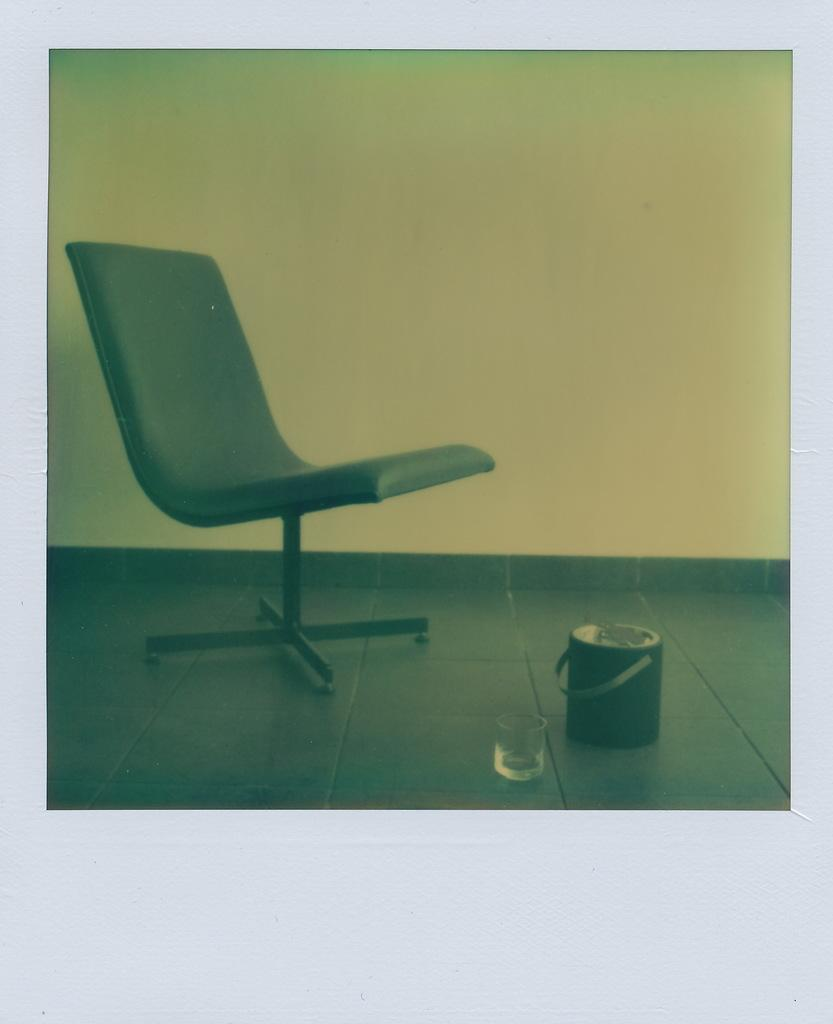Chair: (60, 196, 489, 682)
